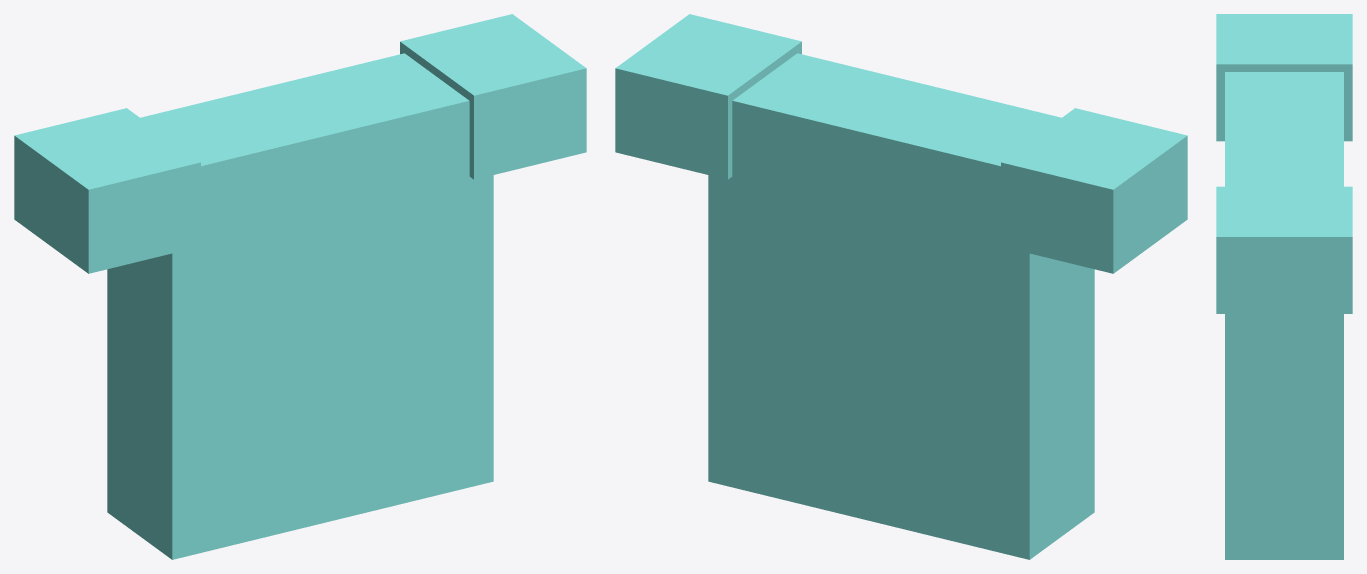
The model's file is diamond_chestplate.glb.
3 renders of one model, left to right at view 1: azimuth 30°, elevation 25°; view 2: azimuth 150°, elevation 25°; view 3: azimuth 270°, elevation 25°, orthographic. The views are drawn at different scales.
Parts seen in each view (by area): view 1: plate, shoulder0, shoulder1; view 2: plate, shoulder0, shoulder1; view 3: plate, shoulder1, shoulder0.
Boxes of the visible parts, box(x1,y1,x2,y2) form: plate: box(107, 53, 493, 559); shoulder0: box(14, 108, 200, 273); shoulder1: box(400, 14, 586, 179); plate: box(708, 53, 1094, 559); shoulder0: box(1001, 108, 1187, 273); shoulder1: box(615, 14, 801, 179); plate: box(1225, 72, 1343, 559); shoulder1: box(1216, 186, 1352, 313); shoulder0: box(1216, 14, 1352, 141).
Size of the model in its own units: 0.62 by 0.47 by 0.16.
